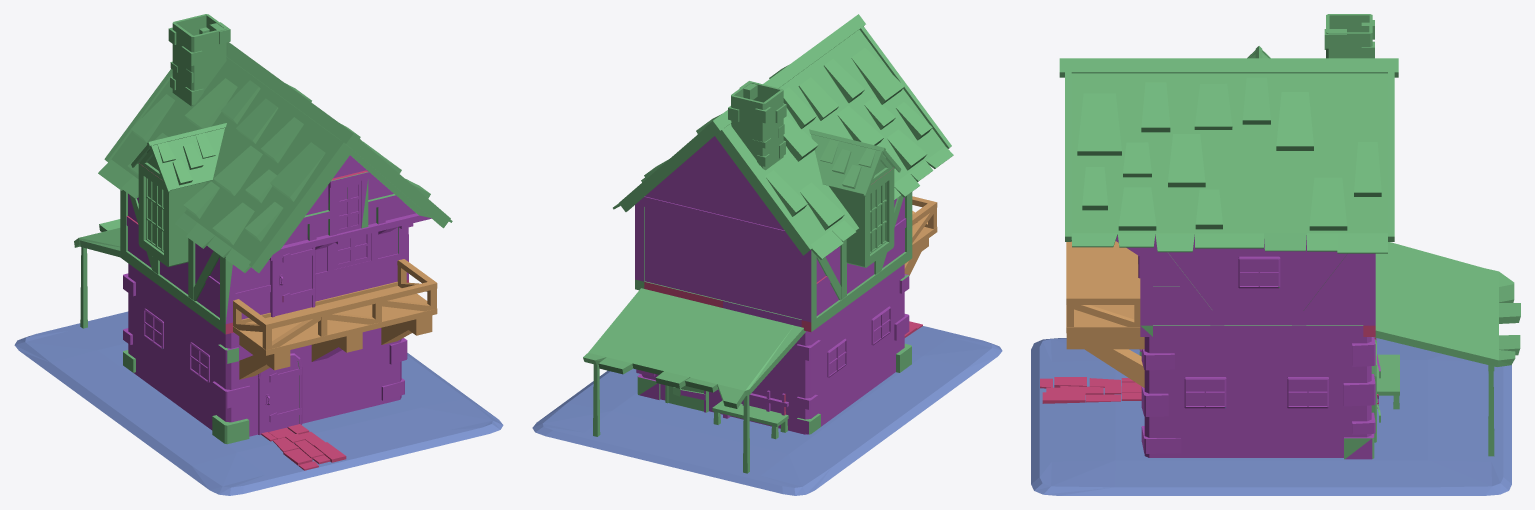
The model's file is full_13_coarse.glb.
3 renders of one model, left to right at view 1: azimuth 30°, elevation 25°; view 2: azimuth 150°, elevation 25°; view 3: azimuth 270°, elevation 25°, orthographic. The views are drawn at different scales.
Parts seen in each view (by area): view 1: world; view 2: world; view 3: world.
Boxes of the visible parts, box(x1,y1,x2,y2) form: world: box(14, 14, 503, 495); world: box(532, 14, 1002, 495); world: box(1031, 14, 1520, 495).
Size of the model in its own units: 0.5013 by 0.5627 by 0.6574.
